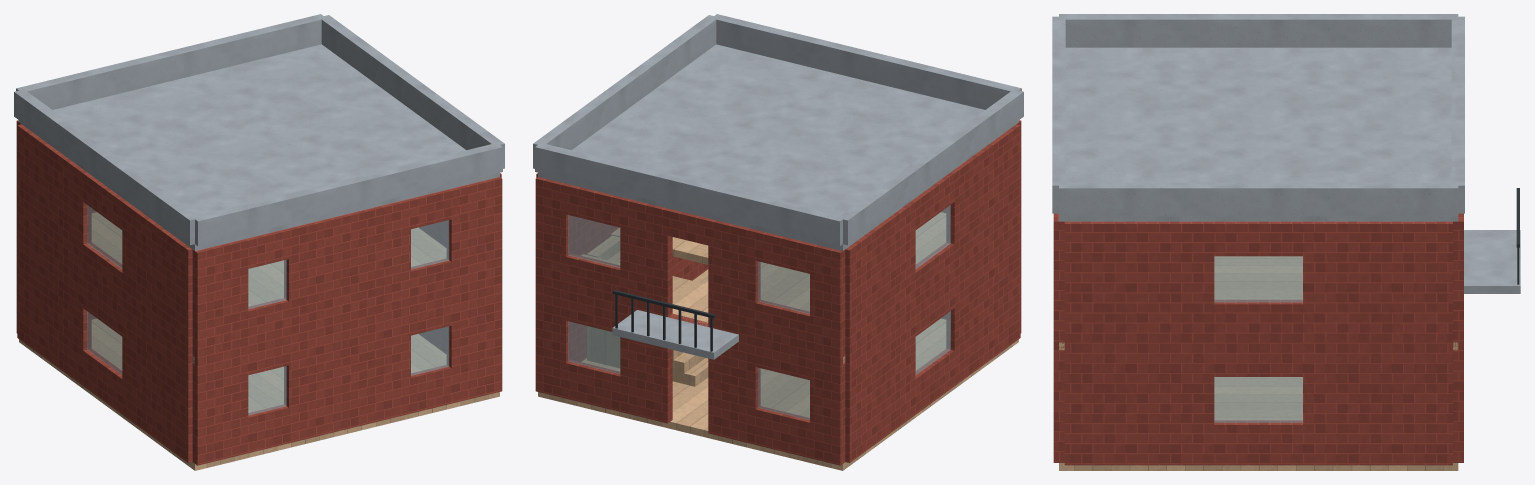
Rendered from env_house_b.glb.
3 renders of one model, left to right at view 1: azimuth 30°, elevation 25°; view 2: azimuth 150°, elevation 25°; view 3: azimuth 270°, elevation 25°, orthographic. The views are drawn at different scales.
Visible parts, largest first — view 1: env_house_b; view 2: env_house_b; view 3: env_house_b.
Boxes of the visible parts, x1,y1,x2,y2 form: env_house_b: (14,14,504,470); env_house_b: (533,14,1023,470); env_house_b: (1052,14,1520,470).
Bounding box in the file's own units: 9.3 × 7.1 × 10.55.
5 materials, 3 textured.
